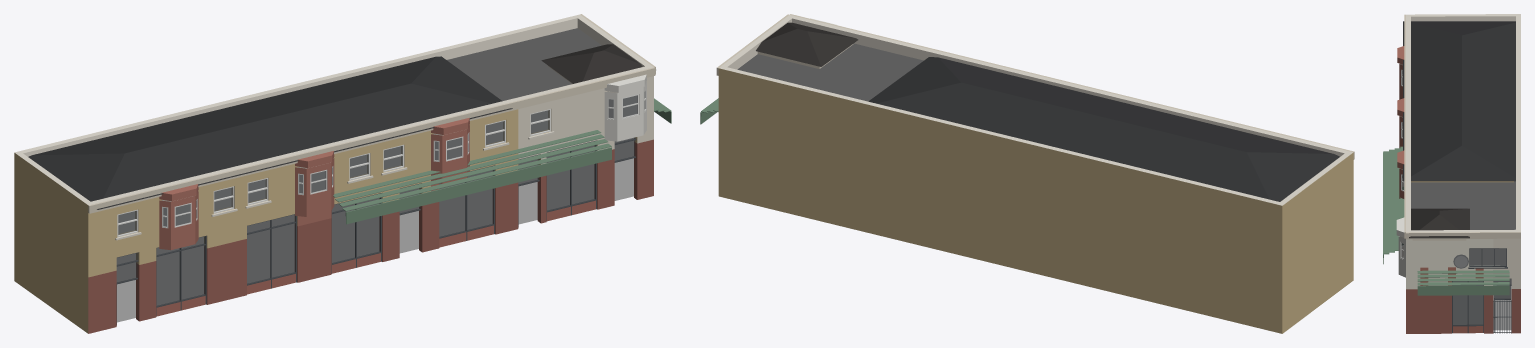
File: exterior.glb
The picture shows the model from 3 angles, left to right: view 1: azimuth 30°, elevation 25°; view 2: azimuth 150°, elevation 25°; view 3: azimuth 270°, elevation 25°; orthographic projection. The views are drawn at different scales.
Visible parts, largest first — view 1: shell, relief-2, shadow-proxy, glazing, bay-windows, roof, awning-spans-2, storefront, awning-valance-2, bay-glazing, frames, trim; view 2: shell, relief-2, roof; view 3: relief-2, shell, roof, shadow-proxy, awning-spans-2, glazing, awning-spans-3, bay-windows, awning-valance-3, relief-3, storefront, bay-glazing (+1 smaller).
Part boxes in pixels (x1,y1,x2,y2): shell: (14, 14, 653, 333); relief-2: (28, 44, 655, 213); shadow-proxy: (117, 95, 636, 322); glazing: (116, 110, 635, 305); bay-windows: (159, 74, 646, 250); roof: (447, 28, 601, 100); awning-spans-2: (333, 130, 611, 215); storefront: (116, 138, 636, 325); awning-valance-2: (346, 147, 611, 224); bay-glazing: (162, 89, 646, 228); frames: (117, 109, 551, 237); trim: (115, 131, 554, 240); shell: (718, 15, 1353, 333); relief-2: (756, 14, 1354, 201); roof: (737, 43, 923, 101); relief-2: (1403, 14, 1515, 240); shell: (1406, 14, 1520, 333); roof: (1411, 181, 1515, 229); shadow-proxy: (1453, 249, 1511, 330); awning-spans-2: (1383, 146, 1404, 257); glazing: (1453, 248, 1511, 324); awning-spans-3: (1417, 270, 1509, 285); bay-windows: (1396, 46, 1405, 277); awning-valance-3: (1417, 285, 1509, 295); relief-3: (1406, 232, 1520, 268); storefront: (1452, 278, 1511, 333); bay-glazing: (1400, 69, 1404, 259).
Size of the model in its own units: 36.2 by 8.01 by 9.25.
